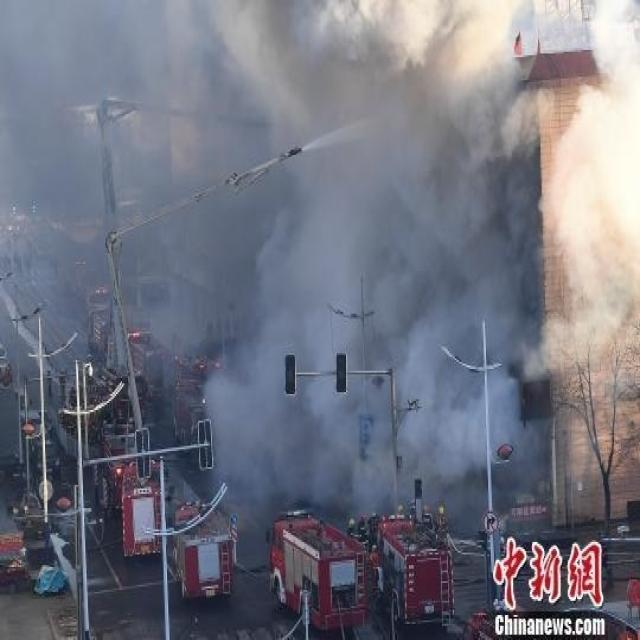Smoke: (1, 2, 640, 516)
